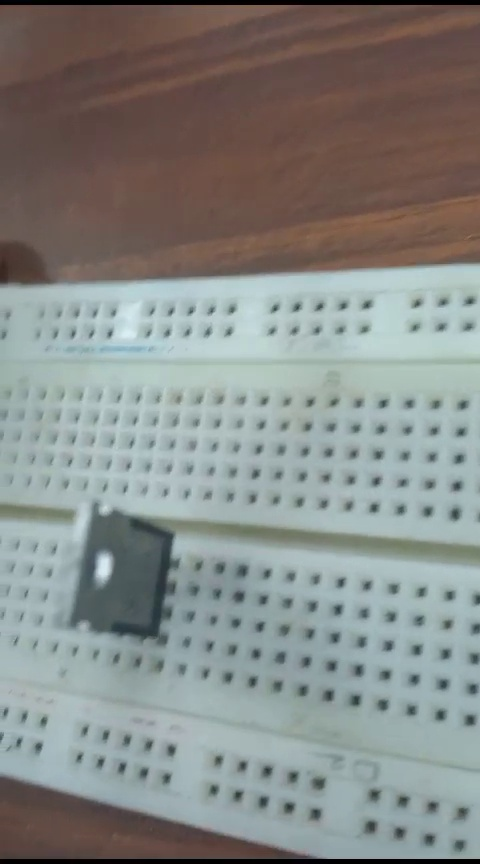voltage regulator: (50, 491, 186, 648)
